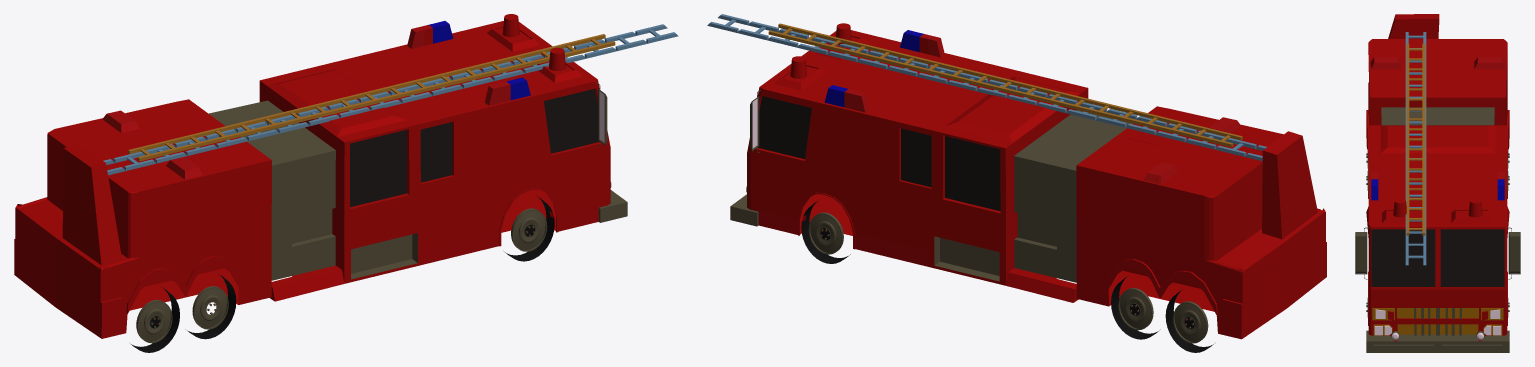
Rendered from fireTruck.obj.
The picture shows the model from 3 angles, left to right: view 1: azimuth 30°, elevation 25°; view 2: azimuth 150°, elevation 25°; view 3: azimuth 270°, elevation 25°; orthographic projection. The views are drawn at different scales.
Visible parts, largest first — view 1: Plane.402_Plane.865; view 2: Plane.402_Plane.865; view 3: Plane.402_Plane.865.
Boxes of the visible parts, left/top/right/bottom form: Plane.402_Plane.865: left=14, top=14, right=678, bottom=352; Plane.402_Plane.865: left=707, top=14, right=1326, bottom=352; Plane.402_Plane.865: left=1355, top=14, right=1520, bottom=352.
Size of the model in its own units: 3.75 by 1.1 by 1.09.
